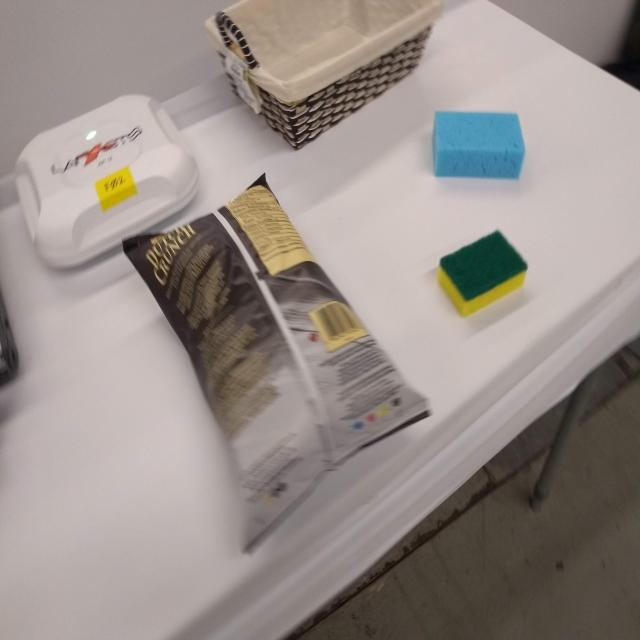potato_chips: (122, 162, 436, 559)
scrubby: (436, 222, 531, 320)
sponge_opl: (429, 106, 528, 183)
